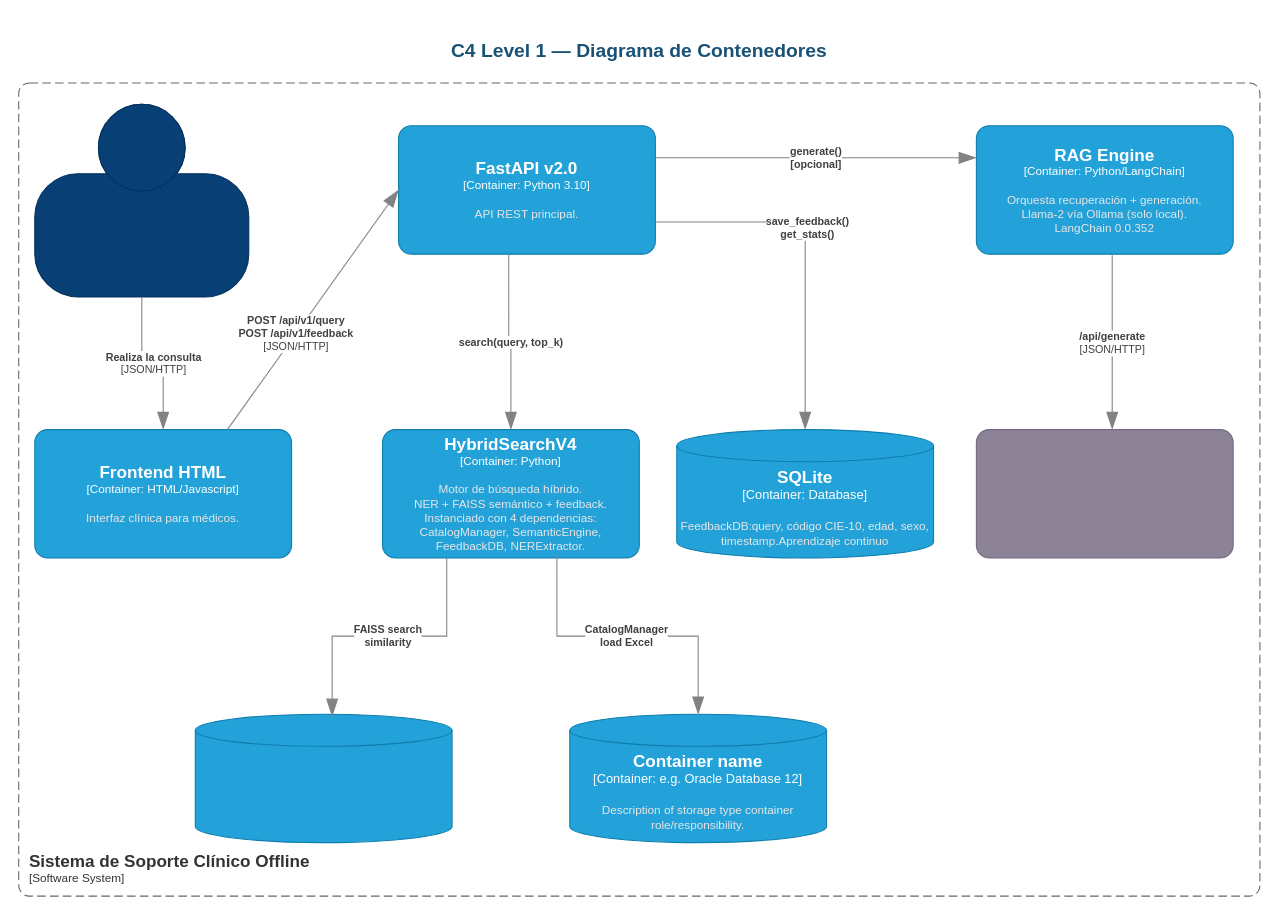
The diagram is 1279 pixels wide and 915 high, and some of its shapes have lost their labels. Here are the shapes that lost their labels. From the top down, the box of each, then its label:
(34, 103, 249, 297): Médico [Person] Médico o enfermera en clínica rural MINSA
(975, 429, 1233, 558): Ollama [Software System] Llama-2 7B 4-bit localhost:11434
(194, 713, 452, 843): FAISS Index [Container: BD] 14,702 vectores CIE-10 768 dimensiones
